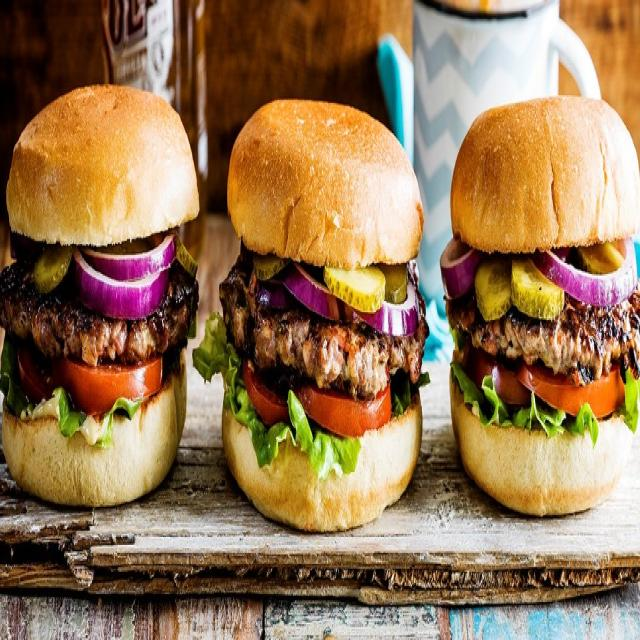burger: (202, 76, 429, 528), (436, 85, 640, 521), (7, 74, 196, 485)
